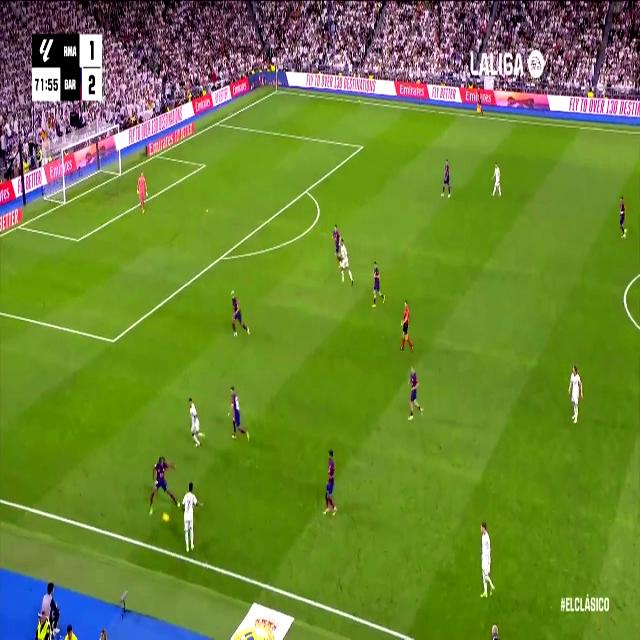bigarea_bottom_inner: (108, 329, 118, 352)
bigarea_top_inner: (358, 140, 364, 152)
bigarea_top_outter: (216, 118, 220, 126)
bottom_arc_area_intersection: (218, 248, 226, 266)
corner: (273, 86, 280, 94)
smallarea_bottom_inner: (74, 231, 81, 248)
smallarea_top_inner: (202, 160, 206, 170)
top_arc_area_intersection: (302, 182, 310, 198)
